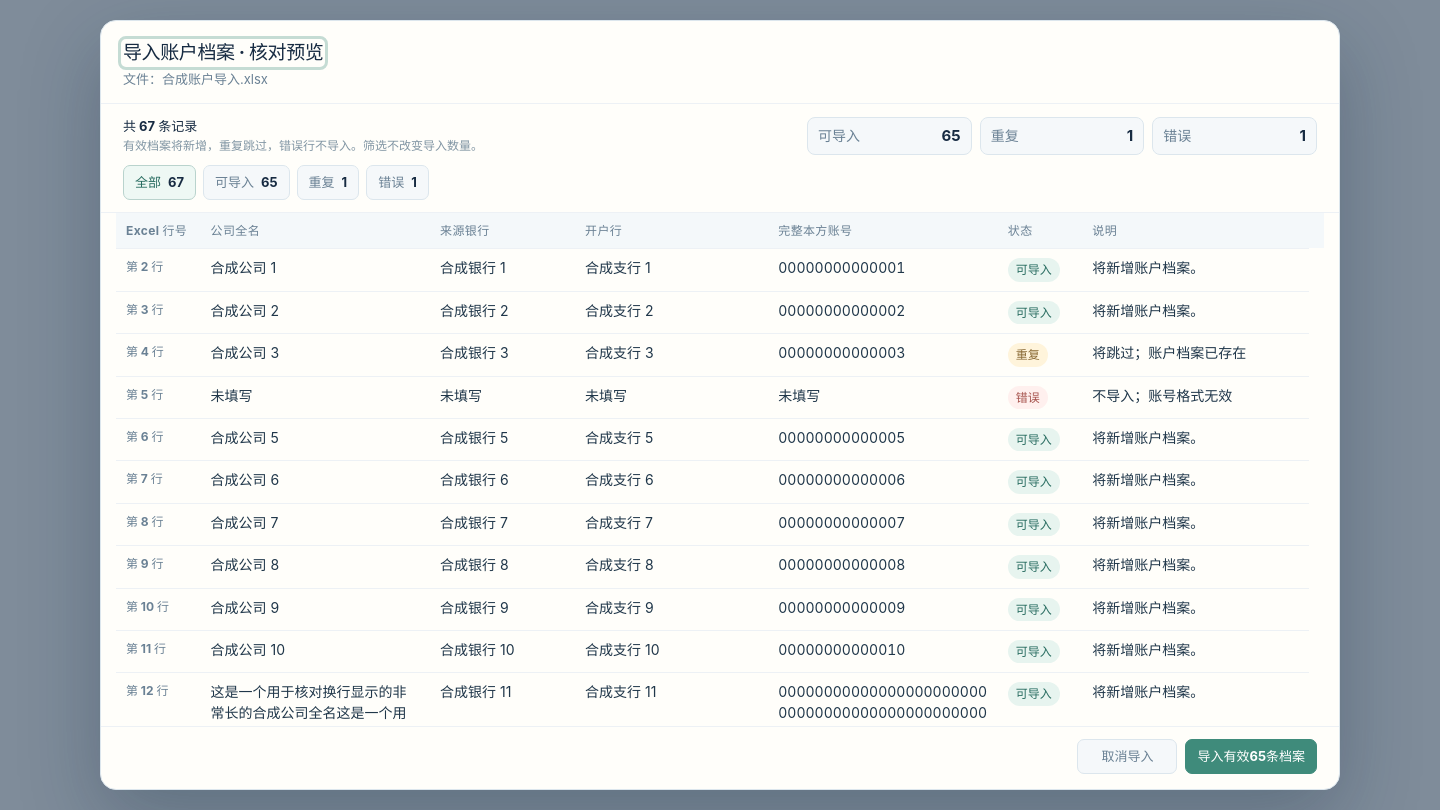
Scenario: CompanyAccountImportDialog › filters rows by status without changing the import count
Click the button with aria-label "重复，1条".
click(328, 182)  # box top-left (297, 165), bottom-right (359, 200)
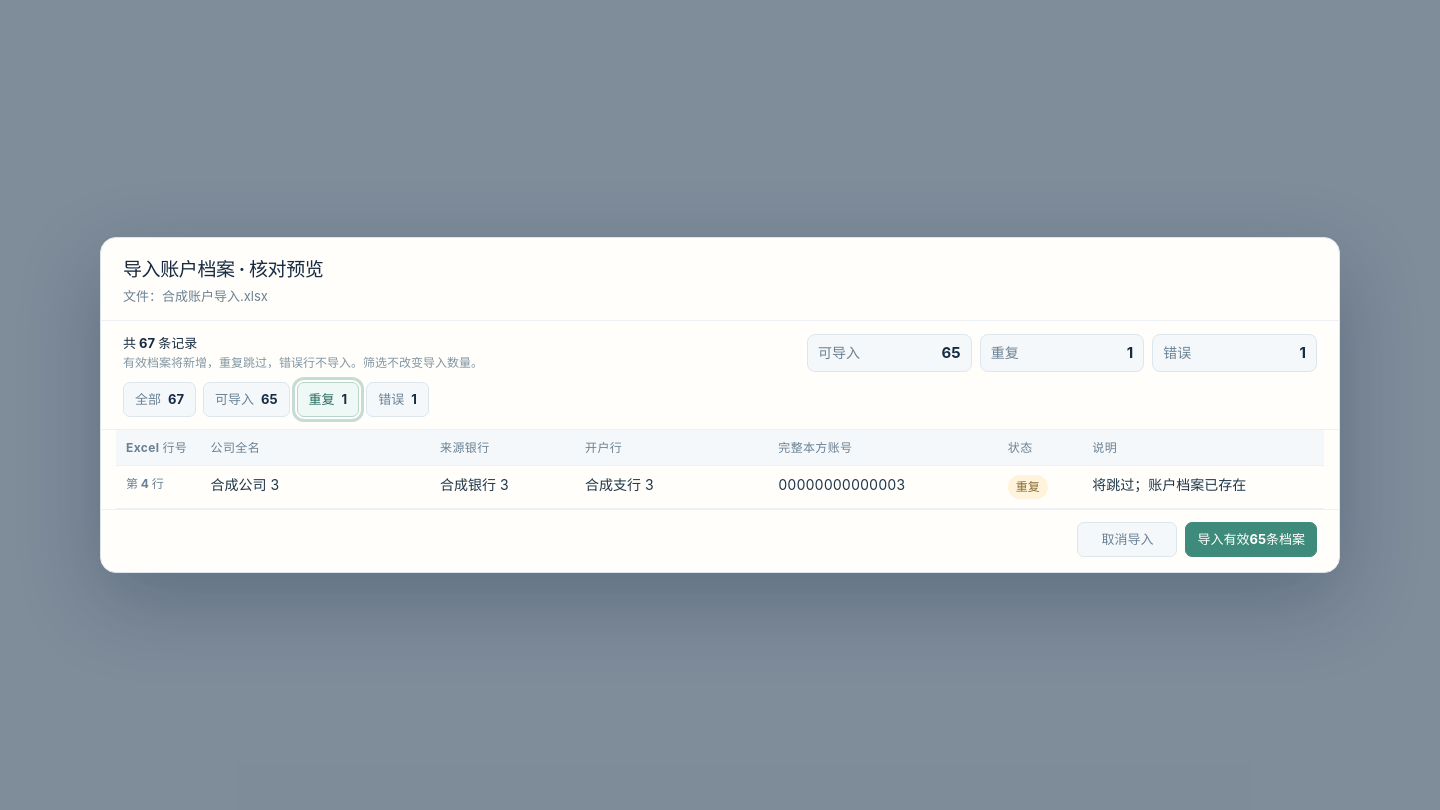
Expected: the text "将跳过；账户档案已存在" is shown, top-left (1082, 466), bottom-right (1324, 508)
Result: the number of rows is 2 at top-left (116, 430), bottom-right (1324, 466); top-left (116, 466), bottom-right (1324, 508)
Click the button with aria-label "错误，1条".
click(398, 399)  # box top-left (366, 382), bottom-right (429, 417)
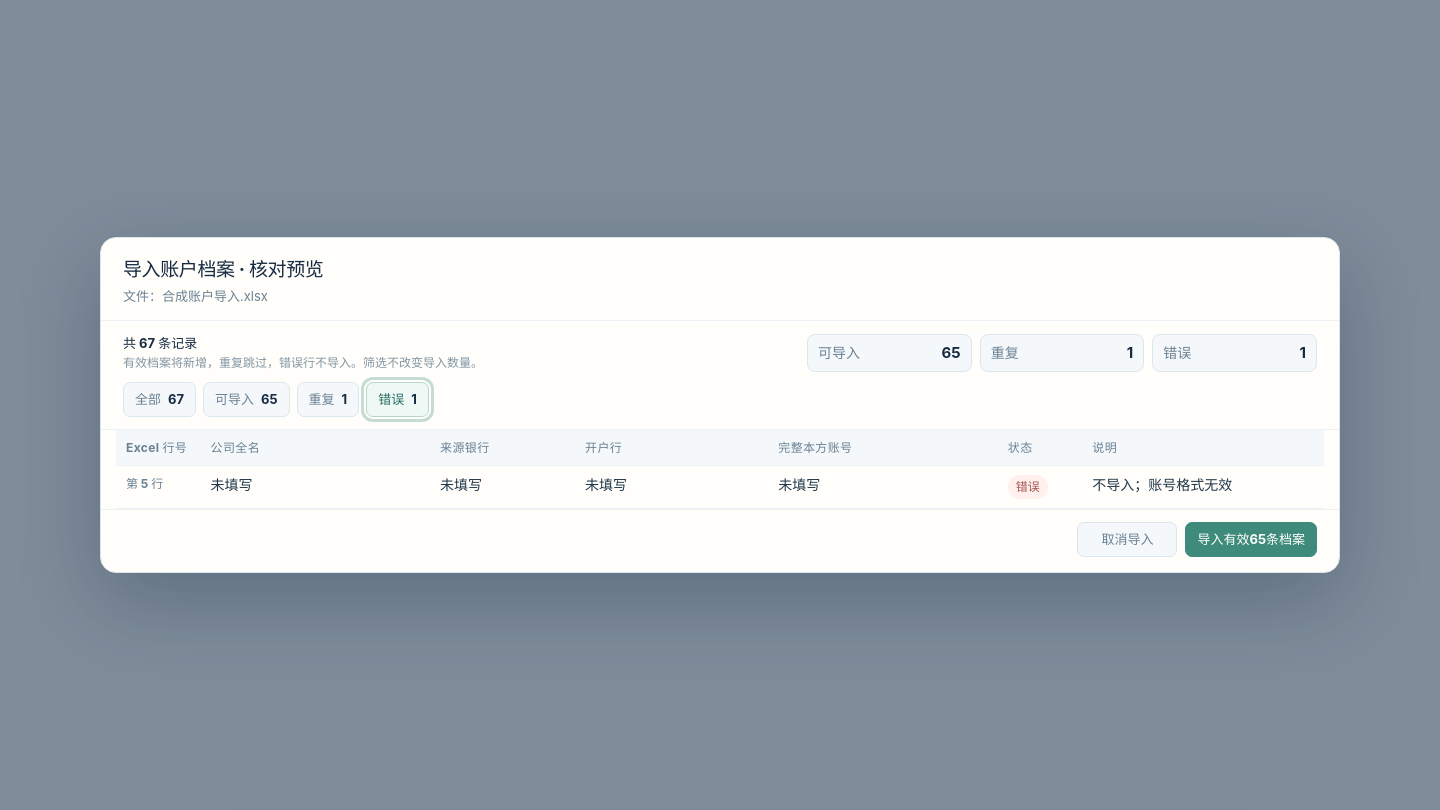
Result: the number of rows is 2 at top-left (116, 430), bottom-right (1324, 466); top-left (116, 466), bottom-right (1324, 508)
Result: the text "不导入；账号格式无效" is shown at top-left (1082, 466), bottom-right (1324, 508)
